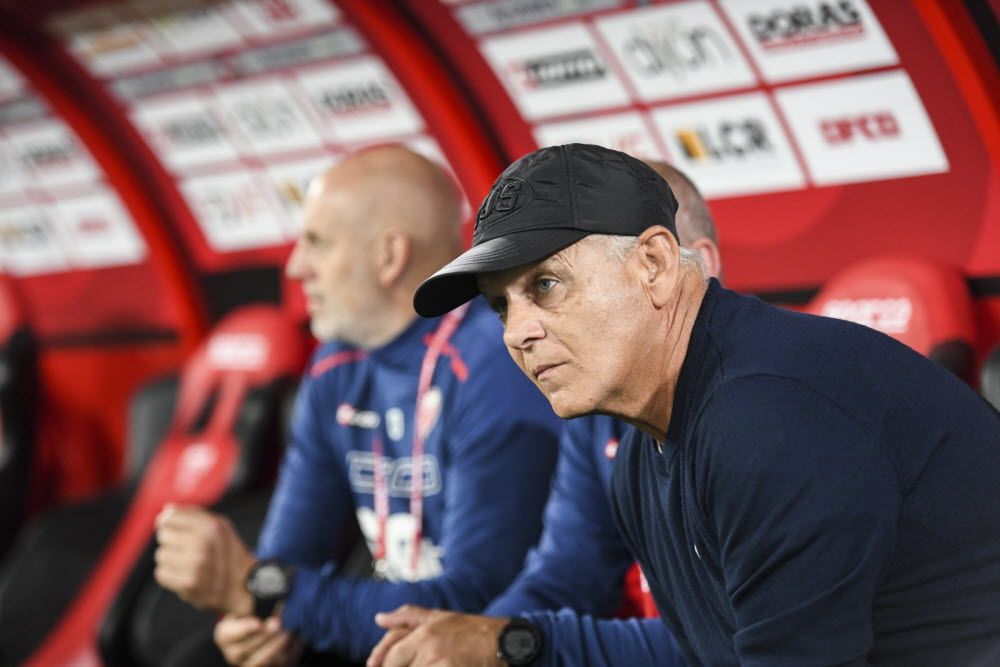without_mask: (481, 195, 673, 424), (288, 180, 414, 342)
